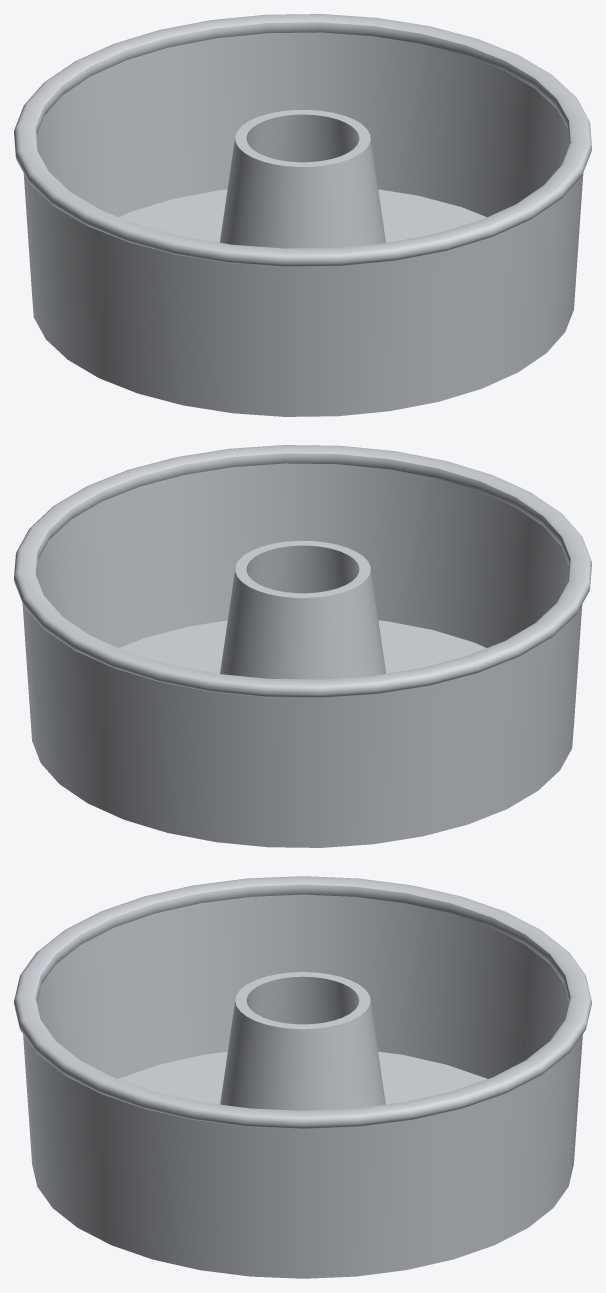
The model's file is forma_bolo.glb.
3 views of the same model, one above another, from view 1: azimuth 30°, elevation 25°; view 2: azimuth 150°, elevation 25°; view 3: azimuth 270°, elevation 25° (orthographic).
Parts seen in each view (by area): view 1: forma_bolo; view 2: forma_bolo; view 3: forma_bolo.
Boxes of the visible parts, x1,y1,x2,y2 form: forma_bolo: (14,14,591,416); forma_bolo: (14,445,591,847); forma_bolo: (14,876,591,1278).
Bounding box in the file's own units: 0.256 × 0.082 × 0.256.
Materials: 1 (1 with a texture image).
